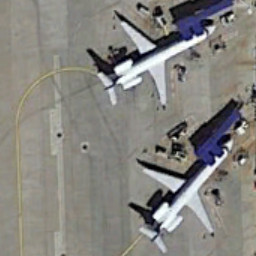Airplane: (84, 6, 221, 121), (130, 130, 245, 255)
